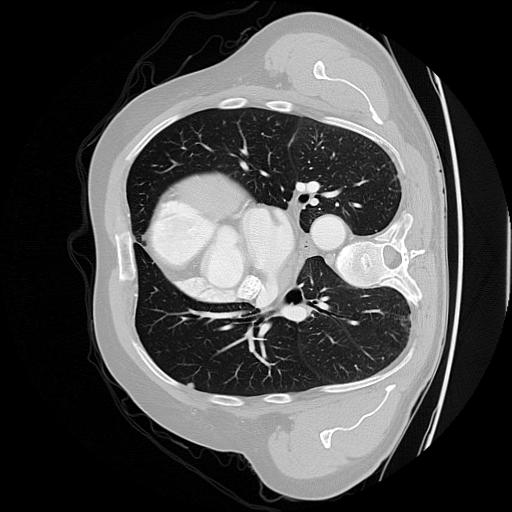nodule: (187, 381, 197, 391)
